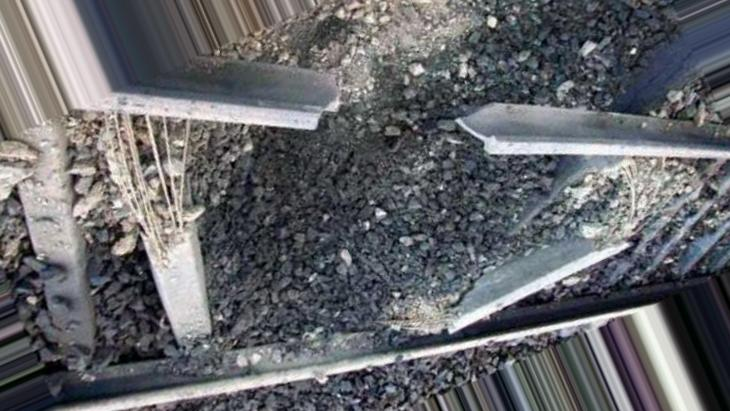tracks_fault: (285, 59, 517, 165), (520, 201, 669, 277)
